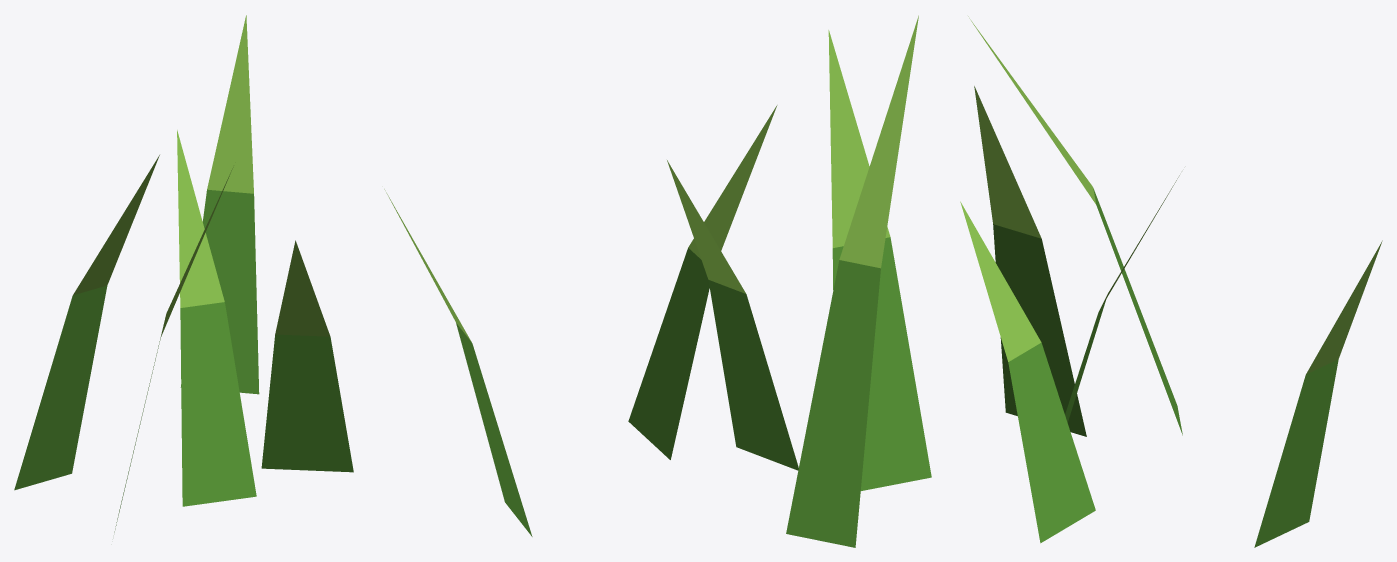
The model's file is Grass_Small.fbx.
3 views of the same model, side by side, from view 1: azimuth 30°, elevation 25°; view 2: azimuth 150°, elevation 25°; view 3: azimuth 270°, elevation 25° (orthographic). The views are drawn at different scales.
Visible parts, largest first — view 1: Grass_Small; view 2: Grass_Small; view 3: Grass_Small.
Part boxes in pixels (bbox=[...]): Grass_Small: bbox=[14, 15, 353, 532]; Grass_Small: bbox=[384, 15, 931, 547]; Grass_Small: bbox=[960, 16, 1382, 547].
Bounding box in the file's own units: 0.6204 × 0.7165 × 0.6633.
